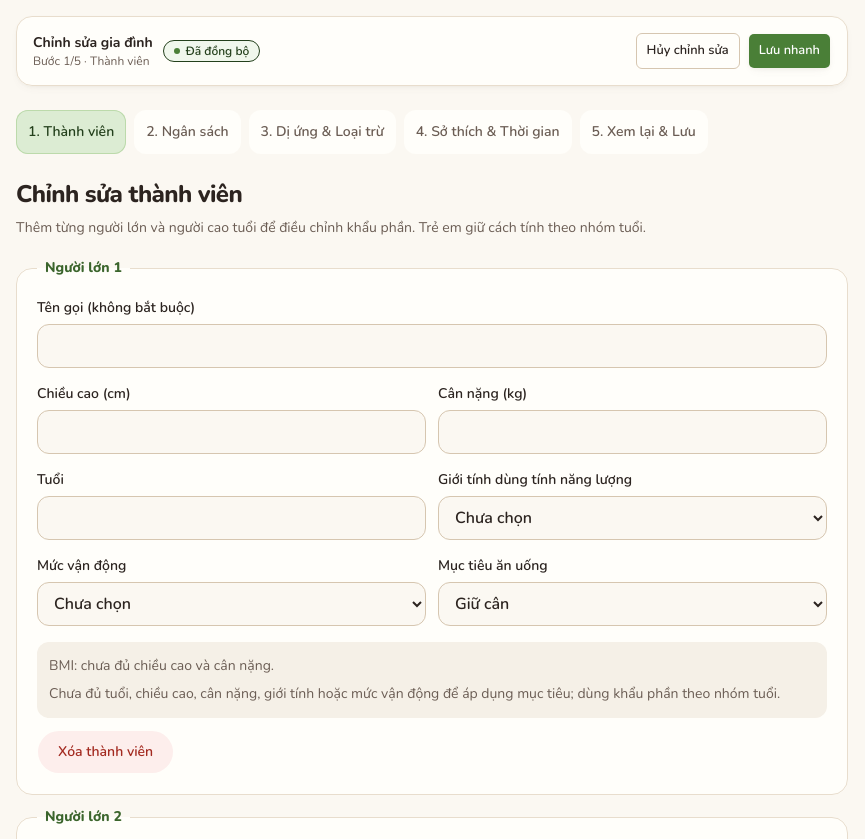
Scenario: HouseholdSettingsPage › allows direct navigation between sections using step tabs
This screenshot has width=865, height=839.
Expected: the heading "Chỉnh sửa thành viên" is shown, [16,178,242,210]
# Jump directly to Budget
Click the button "2. Ngân sách" at (187, 132), box [134,110,240,154]
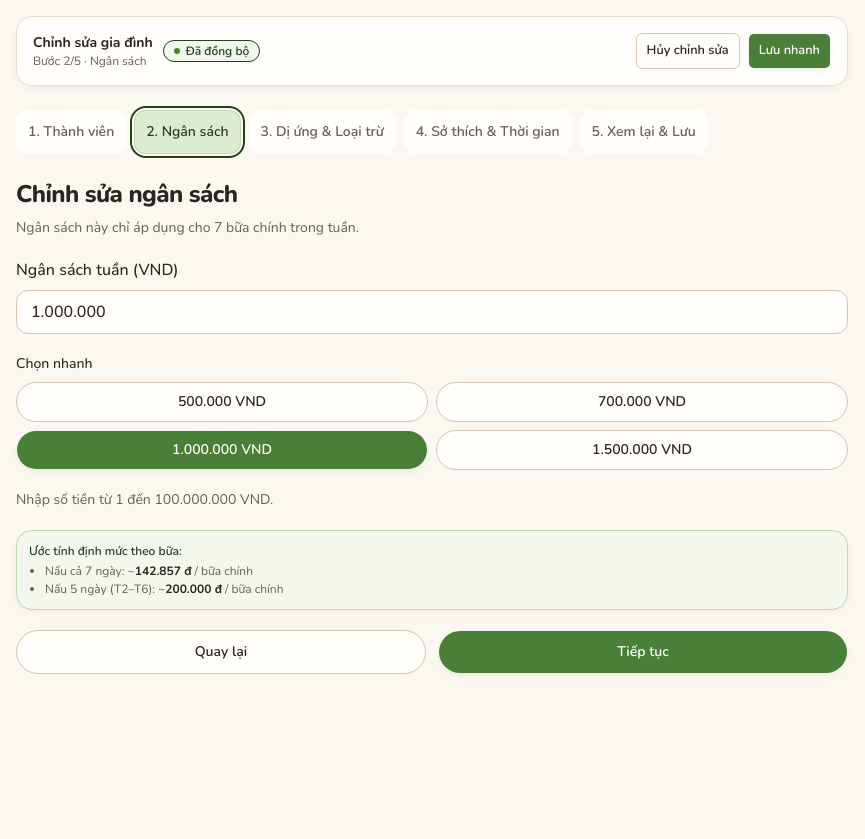
Now the heading "Chỉnh sửa ngân sách" is shown, box [16,178,237,210]
# Jump directly to Review
Click the button "5. Xem lại & Lưu" at (644, 132), box [580,110,708,154]
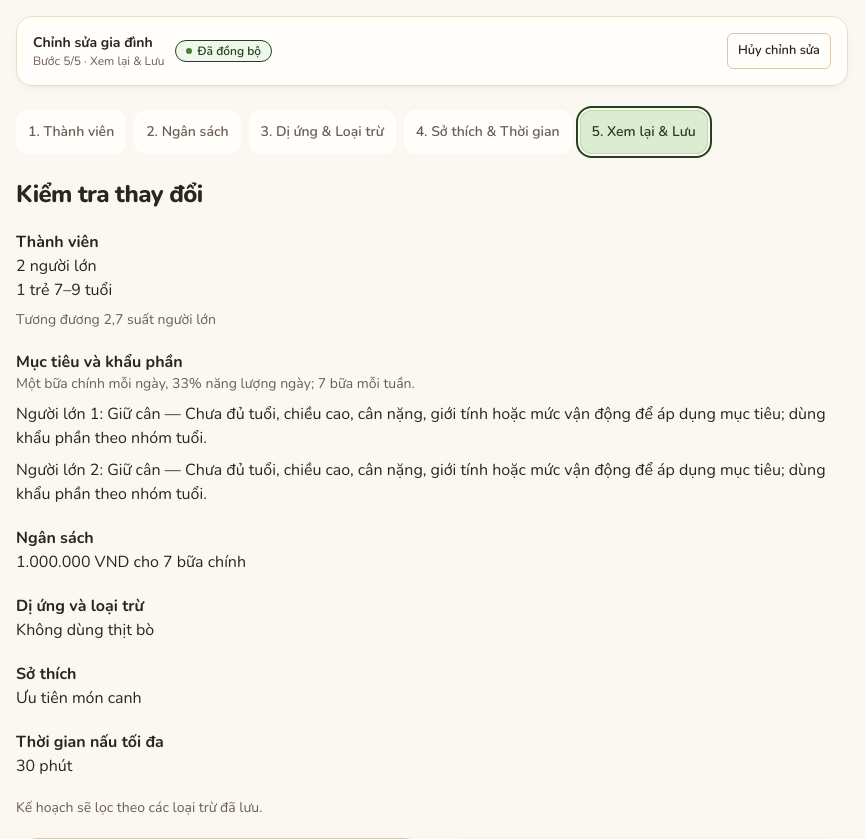
Now the heading "Kiểm tra thay đổi" is shown, box [16,178,203,210]
